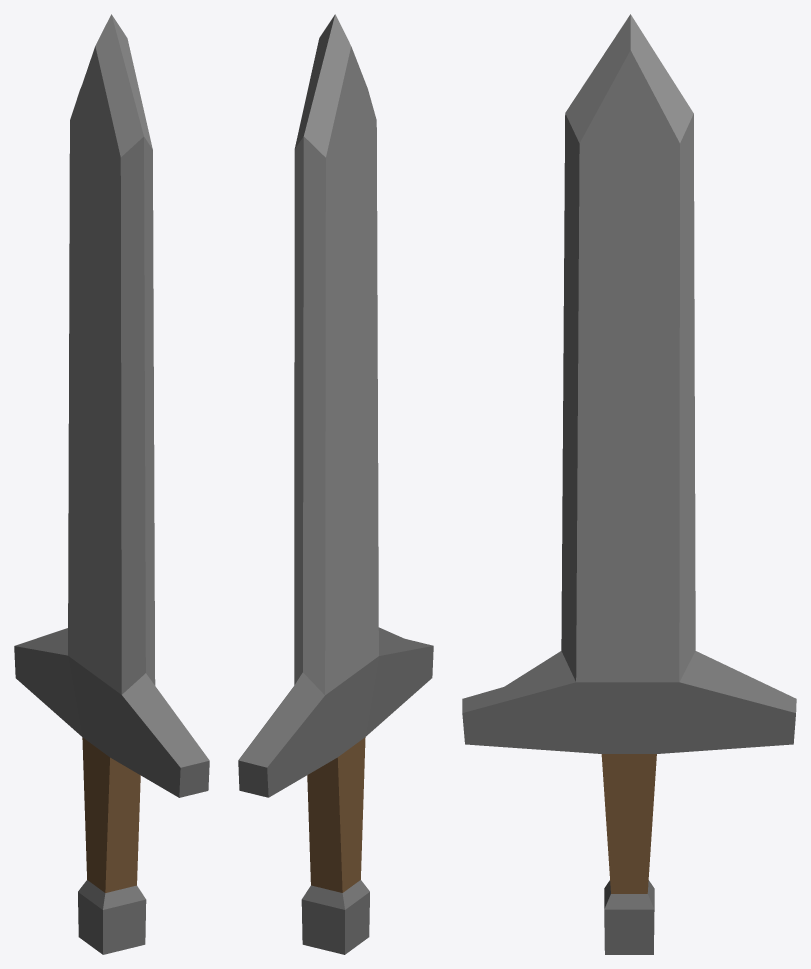
File: Arow.fbx
3 views of the same model, side by side, from view 1: azimuth 30°, elevation 25°; view 2: azimuth 150°, elevation 25°; view 3: azimuth 270°, elevation 25° (orthographic).
Parts seen in each view (by area): view 1: Cube; view 2: Cube; view 3: Cube.
Boxes of the visible parts, x1,y1,x2,y2 form: Cube: (14,14,209,954); Cube: (238,14,433,954); Cube: (462,14,796,954).
Size of the model in its own units: 32.01 by 654 by 213.
